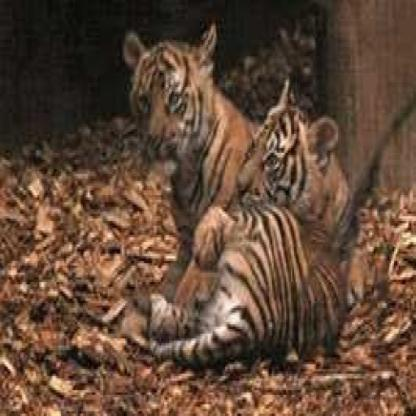Tiger: (159, 71, 396, 378), (105, 22, 259, 200)
